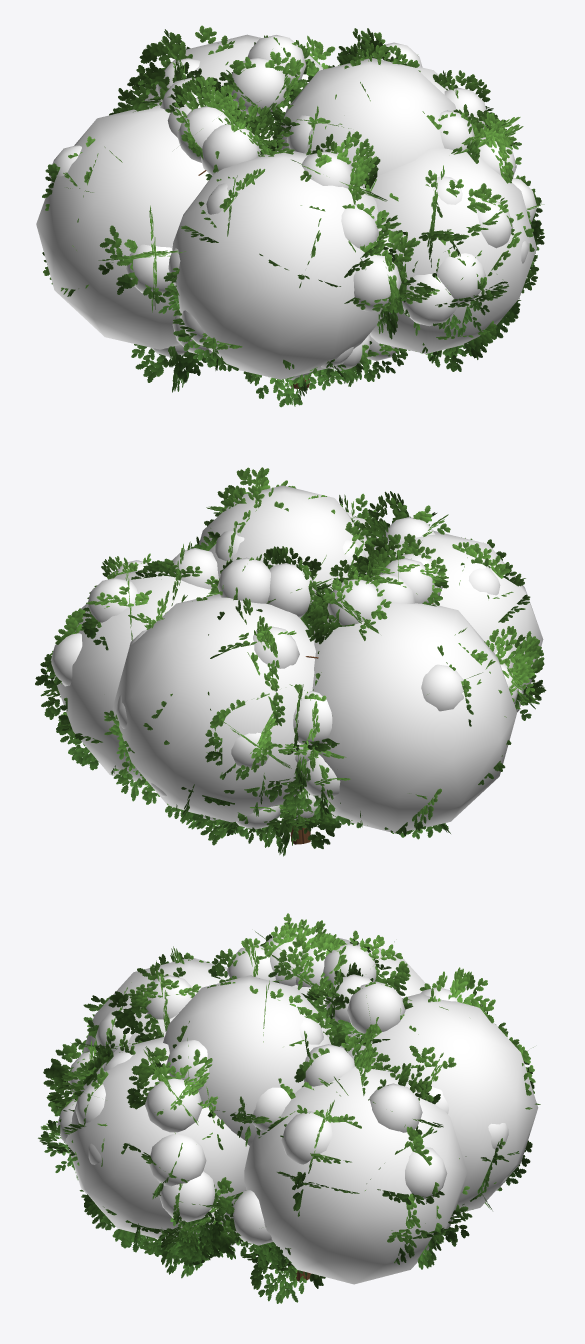
Rendered from grown_bush1.gltf.
3 renders of one model, top to bottom at view 1: azimuth 30°, elevation 25°; view 2: azimuth 150°, elevation 25°; view 3: azimuth 270°, elevation 25°, orthographic. The views are drawn at different scales.
Parts seen in each view (by area): view 1: grown_bush1_shadow_LOD0, grown_bush1_leaves_LOD0; view 2: grown_bush1_shadow_LOD0, grown_bush1_leaves_LOD0; view 3: grown_bush1_shadow_LOD0, grown_bush1_leaves_LOD0.
Boxes of the visible parts, bbox=[...] form: grown_bush1_shadow_LOD0: bbox=[36, 34, 536, 380]; grown_bush1_leaves_LOD0: bbox=[42, 25, 544, 407]; grown_bush1_shadow_LOD0: bbox=[50, 485, 543, 833]; grown_bush1_leaves_LOD0: bbox=[35, 467, 546, 856]; grown_bush1_shadow_LOD0: bbox=[57, 935, 538, 1284]; grown_bush1_leaves_LOD0: bbox=[38, 913, 540, 1303].
Size of what is drawn, in the model's own units: 3.06 by 2.21 by 3.23.
3 materials, 2 textured.
